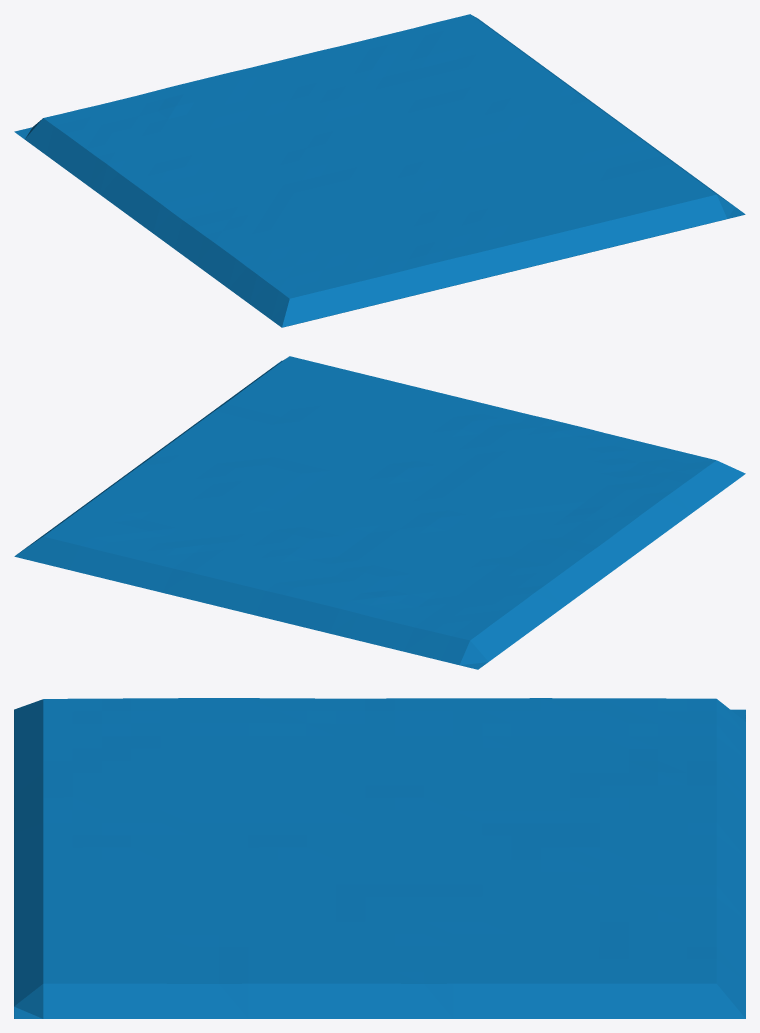
Rendered from Tile2.fbx.
The picture shows the model from 3 angles, top to bottom: view 1: azimuth 30°, elevation 25°; view 2: azimuth 150°, elevation 25°; view 3: azimuth 270°, elevation 25°; orthographic projection. The views are drawn at different scales.
Parts seen in each view (by area): view 1: ImageToStl.com_2; view 2: ImageToStl.com_2; view 3: ImageToStl.com_2.
Part boxes in pixels (<box>): ImageToStl.com_2: <box>14,14,745,327</box>; ImageToStl.com_2: <box>14,356,745,669</box>; ImageToStl.com_2: <box>14,698,745,1018</box>.
Bounding box in the file's own units: 10417 × 376 × 10417.
Materials: 1 (1 with a texture image).
